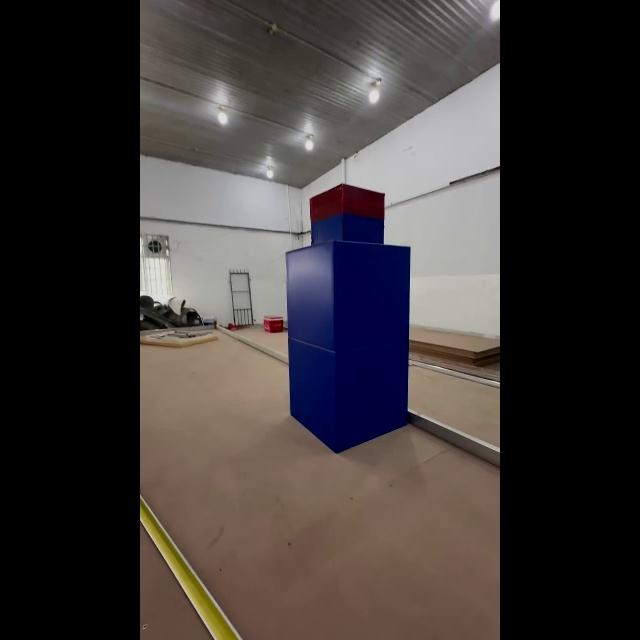earth_block: (275, 243, 416, 348), (285, 344, 410, 453)
sky_block: (306, 183, 388, 243)
